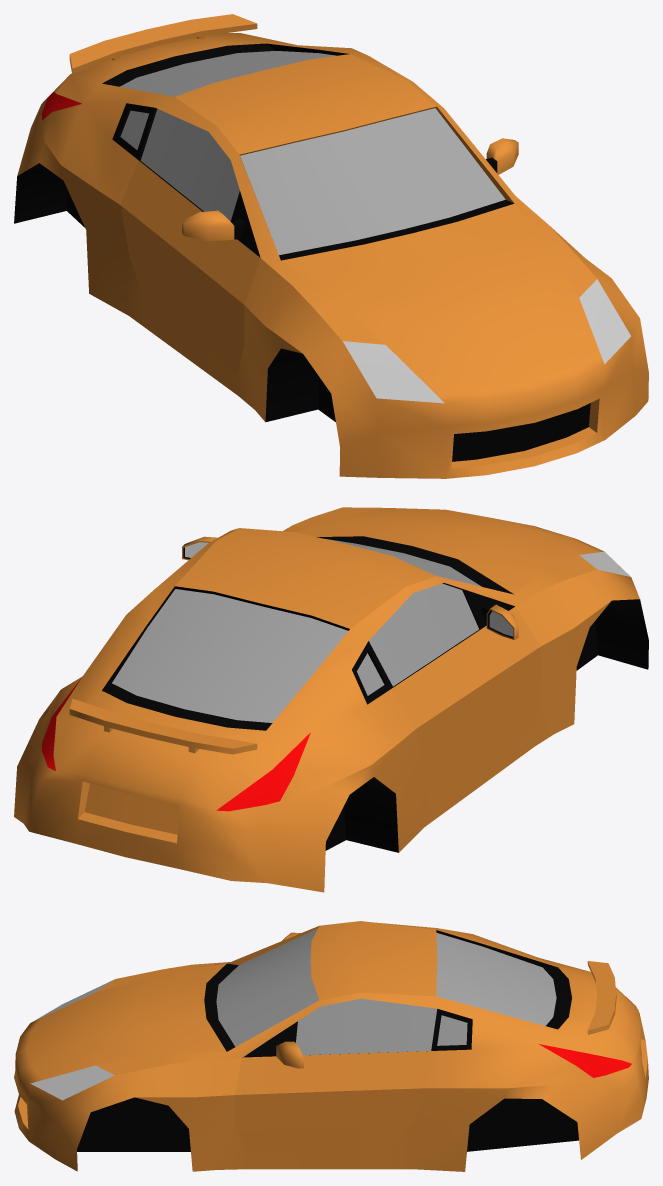
3 renders of one model, top to bottom at view 1: azimuth 30°, elevation 25°; view 2: azimuth 150°, elevation 25°; view 3: azimuth 270°, elevation 25°, orthographic. The views are drawn at different scales.
Visible parts, largest first — view 1: 350; view 2: 350; view 3: 350.
Part boxes in pixels (left/top/right/bottom): 350: left=14, top=14, right=648, bottom=478; 350: left=14, top=507, right=648, bottom=892; 350: left=14, top=921, right=648, bottom=1171.
Size of the model in its own units: 1.73 by 1.02 by 3.67.
3 materials, 1 textured.
